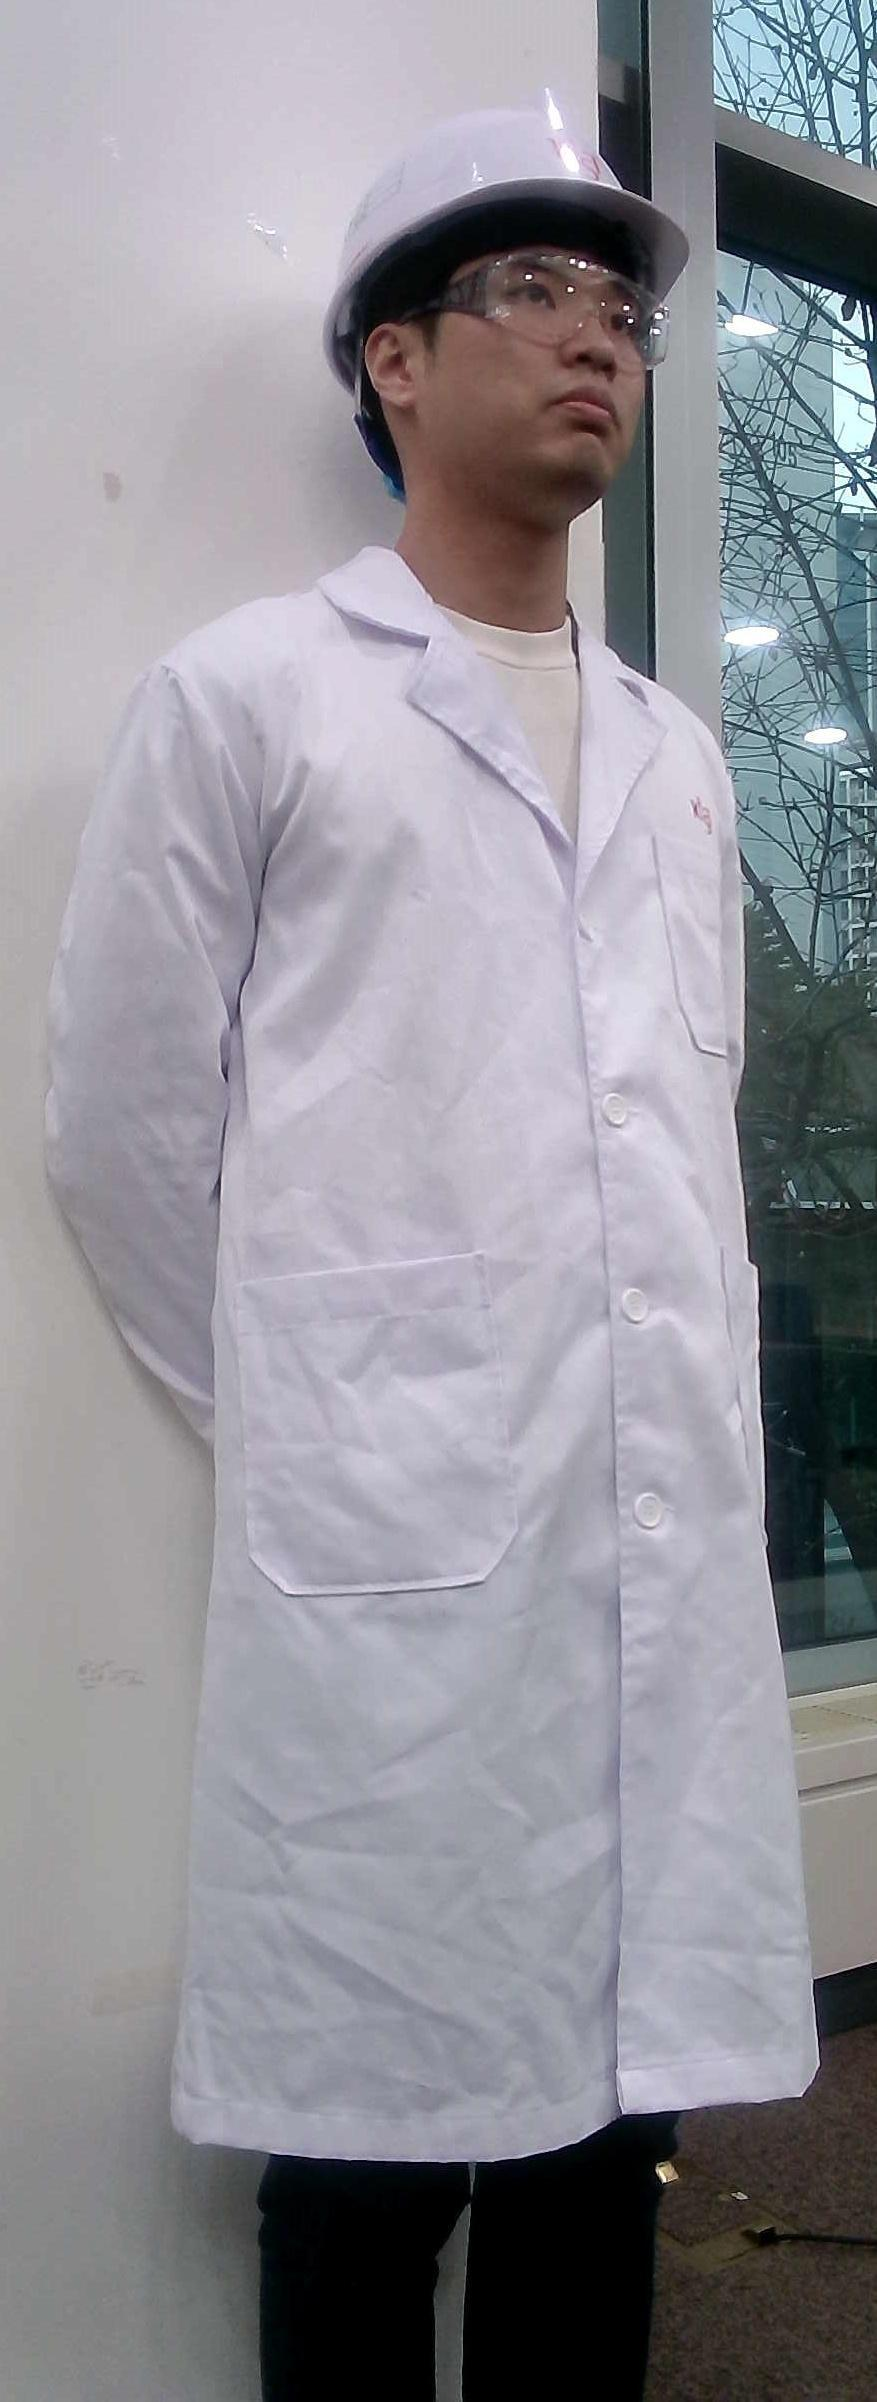lab_coat: (121, 607, 825, 2085)
